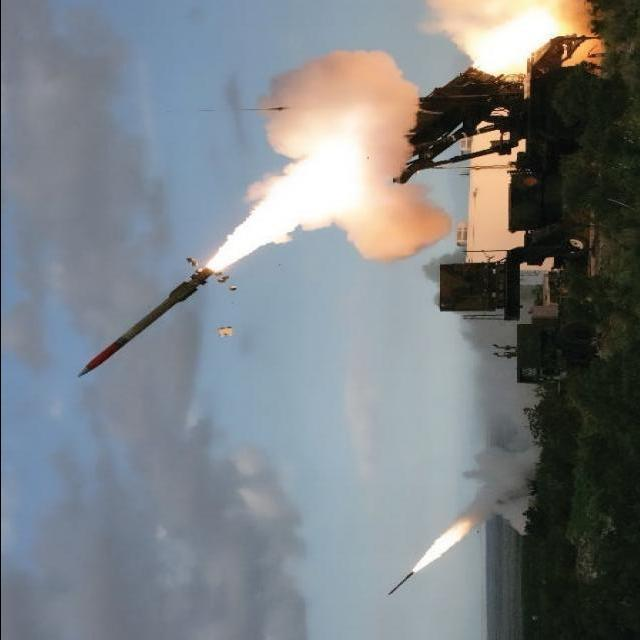missile: (66, 254, 228, 380), (374, 566, 426, 597)
